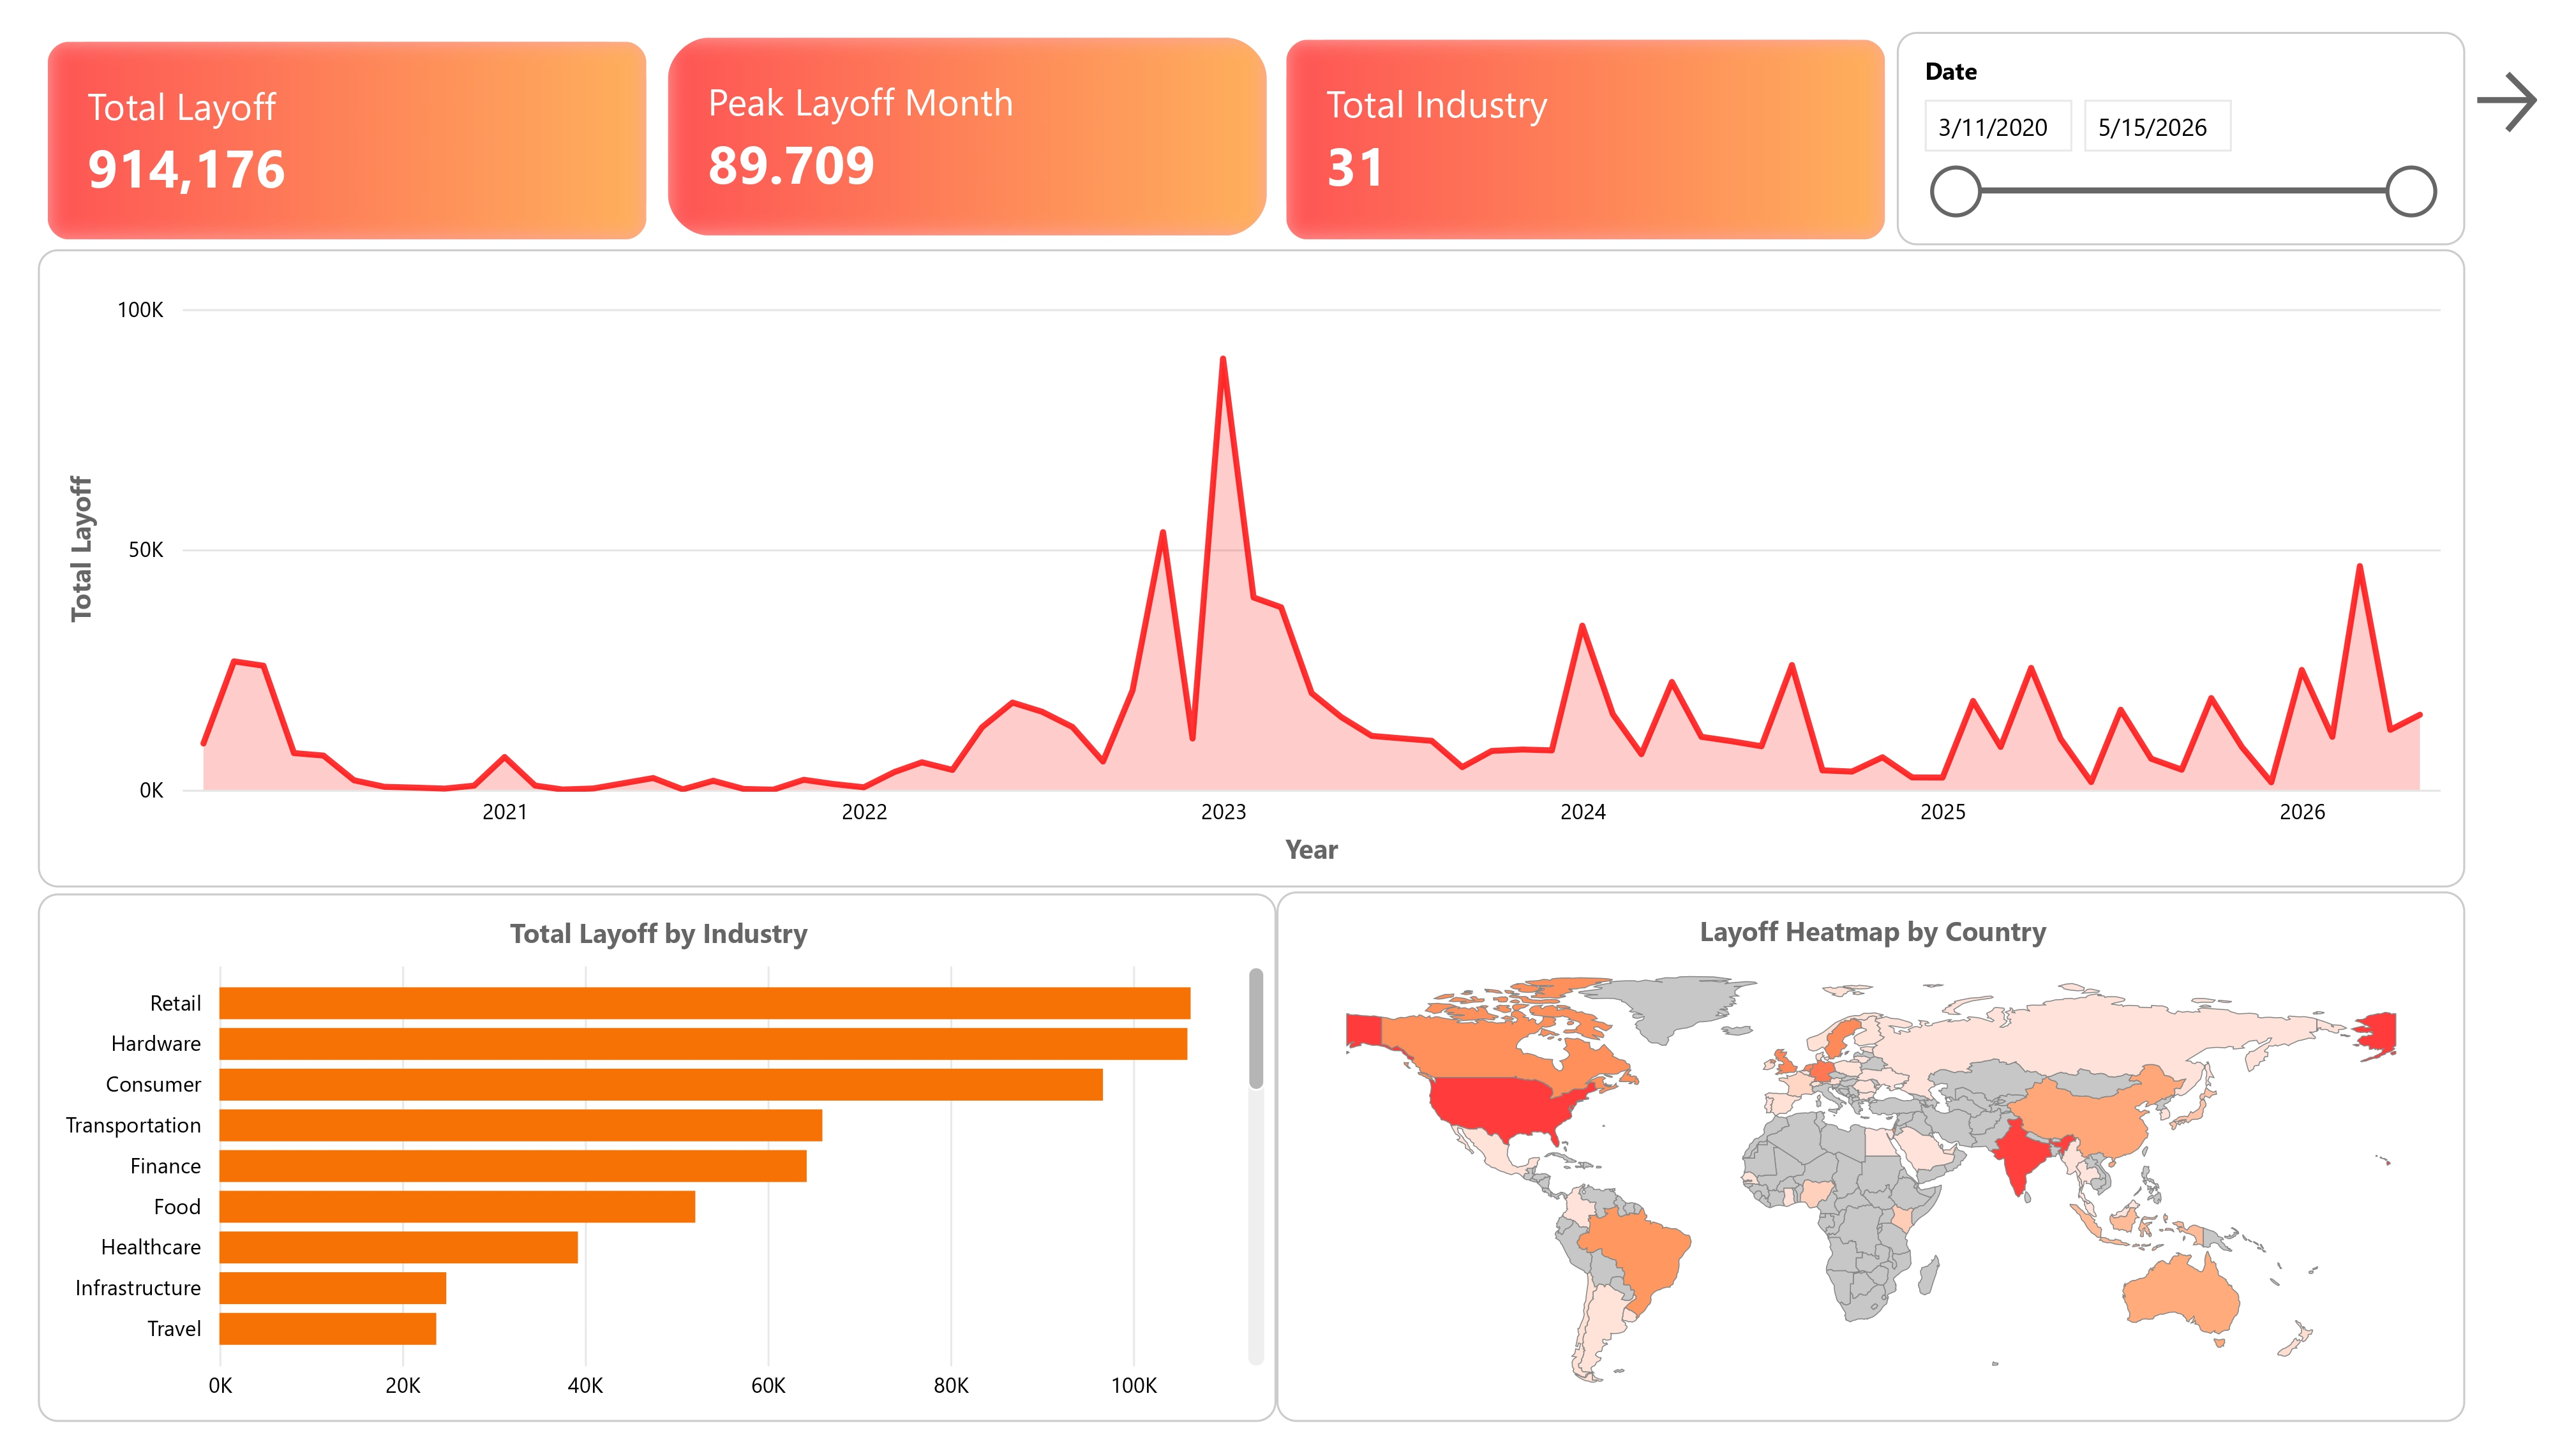

What the dashboard file says about the page in this screenshot:
{"tool":"powerbi","page":{"name":"Page 1","canvas":[1280,720],"ordinal":0},"visuals":[{"type":"areaChart","title":"Total Layoff over Time","fields":{"Category":["layoffs.date.Variation.Date Hierarchy.Year","layoffs.date.Variation.Date Hierarchy.Quarter","layoffs.date.Variation.Date Hierarchy.Month","layoffs.date.Variation.Date Hierarchy.Day"],"Y":["layoffs.Total Layoff"]},"box":[18.1,156,1217.3,313],"z":0},{"type":"cardVisual","fields":{"Data":["layoffs.Industry Count"]},"box":[638,45,314,108],"z":1000},{"type":"cardVisual","fields":{"Data":["layoffs.Total Layoff"]},"box":[18.1,45,314,108],"z":2000},{"type":"cardVisual","fields":{"Data":["layoffs.Peak Monthly Layoff Card"]},"box":[326,45,314,108],"z":3000},{"type":"slicer","title":"Date","fields":{"Values":["layoffs.date"]},"box":[951.5,49,284.9,100],"z":4000},{"type":"clusteredBarChart","title":"Total Layoff by Industry","fields":{"Category":["layoffs.industry"],"Y":["layoffs.Total Layoff"]},"box":[18,477,613,242],"z":5000},{"type":"shapeMap","title":"Layoff Choropleth Map by Country","fields":{"Value":["layoffs.Total Layoff"],"Category":["layoffs.country_map"]},"box":[638,476,544,242],"z":6000},{"type":"actionButton","box":[1226.8,8.5,43.6,40.4],"z":7000},{"type":"textbox","box":[472,3.2,310.4,45.7],"z":8000},{"type":"deneb7E15AEF80B9E4D4F8E12924291ECE89A","fields":{"dataset":["layoffs.Total Layoff"]},"box":[1175.8,477.3,73.4,241.3],"z":9000}]}

Visuals, with their boxes in screenshot pixels (x1, y1, x2, y2), scaled from the page's 1280x720 canvas onto the 2553x1456 screenshot:
"Total Layoff over Time" areaChart: [x1=36, y1=315, x2=2464, y2=948]
cardVisual - layoffs.Industry Count: [x1=1273, y1=91, x2=1899, y2=309]
cardVisual - layoffs.Total Layoff: [x1=36, y1=91, x2=663, y2=309]
cardVisual - layoffs.Peak Monthly Layoff Card: [x1=650, y1=91, x2=1276, y2=309]
"Date" slicer: [x1=1898, y1=99, x2=2466, y2=301]
"Total Layoff by Industry" clusteredBarChart: [x1=36, y1=965, x2=1259, y2=1454]
"Layoff Choropleth Map by Country" shapeMap: [x1=1273, y1=963, x2=2358, y2=1452]
actionButton: [x1=2447, y1=17, x2=2534, y2=99]
textbox: [x1=941, y1=6, x2=1561, y2=99]
deneb7E15AEF80B9E4D4F8E12924291ECE89A - layoffs.Total Layoff: [x1=2345, y1=965, x2=2492, y2=1453]
